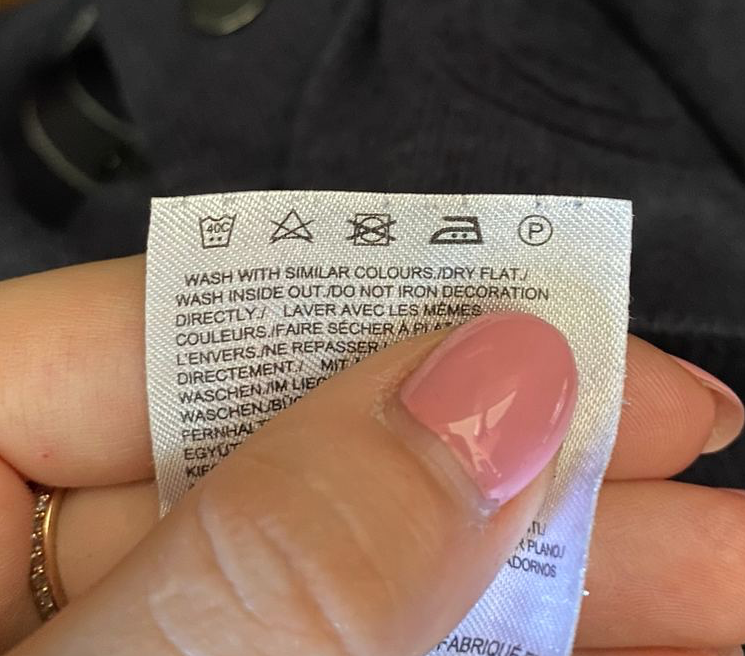do_not_bleach: (264, 202, 320, 248)
do_not_tumble_drying: (343, 207, 402, 250)
dry_clean_tetrachloroethylene_pce_only: (514, 211, 558, 249)
ironing_at_med_temp: (427, 208, 490, 252)
wash_at_or_below_40_mild_fine_wash: (192, 206, 245, 252)
